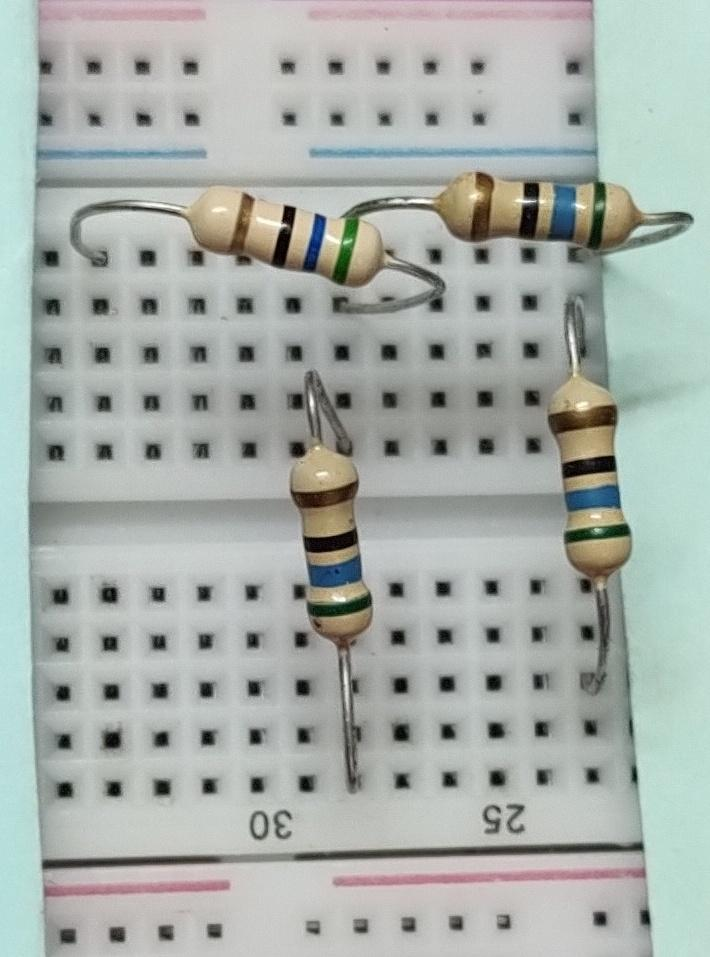resistor: (508, 358, 668, 588), (270, 428, 405, 658), (182, 170, 390, 310), (420, 153, 655, 262)
